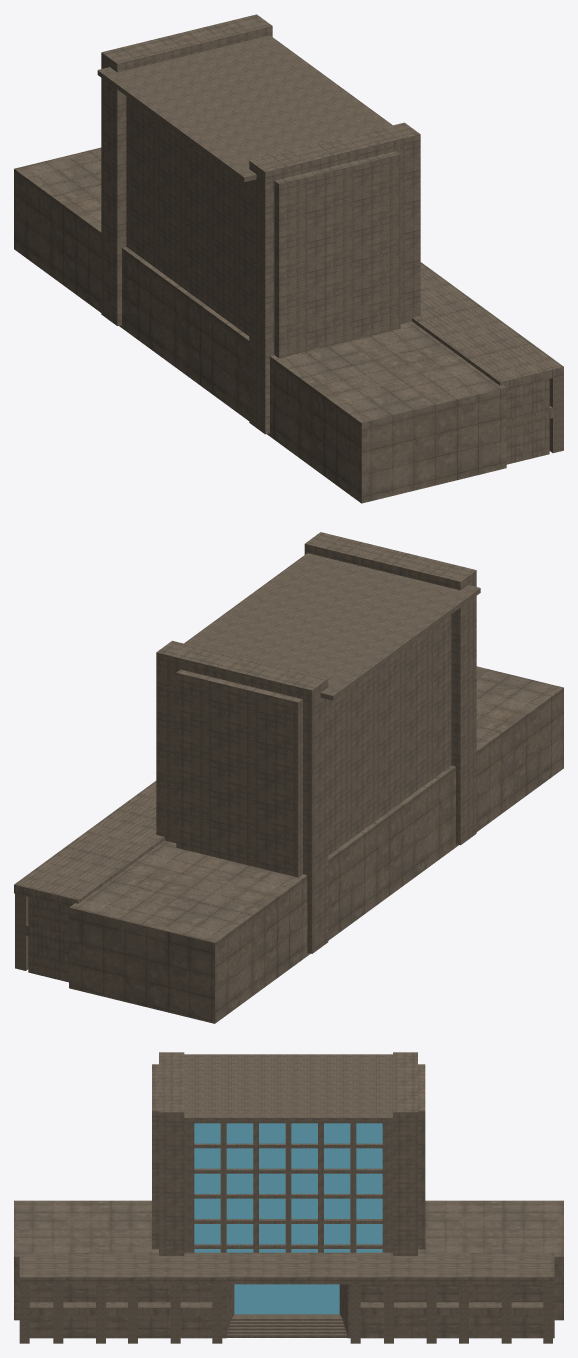
Rendered from library1.glb.
3 renders of one model, top to bottom at view 1: azimuth 30°, elevation 25°; view 2: azimuth 150°, elevation 25°; view 3: azimuth 270°, elevation 25°, orthographic. The views are drawn at different scales.
Parts seen in each view (by area): view 1: 平面; view 2: 平面; view 3: 平面.
Boxes of the visible parts, x1,y1,x2,y2 form: 平面: (14, 14, 563, 503); 平面: (14, 532, 563, 1023); 平面: (14, 1052, 563, 1343).
Bounding box in the file's own units: 3.88 × 4.41 × 10.46.
Materials: 4 (3 with a texture image).
